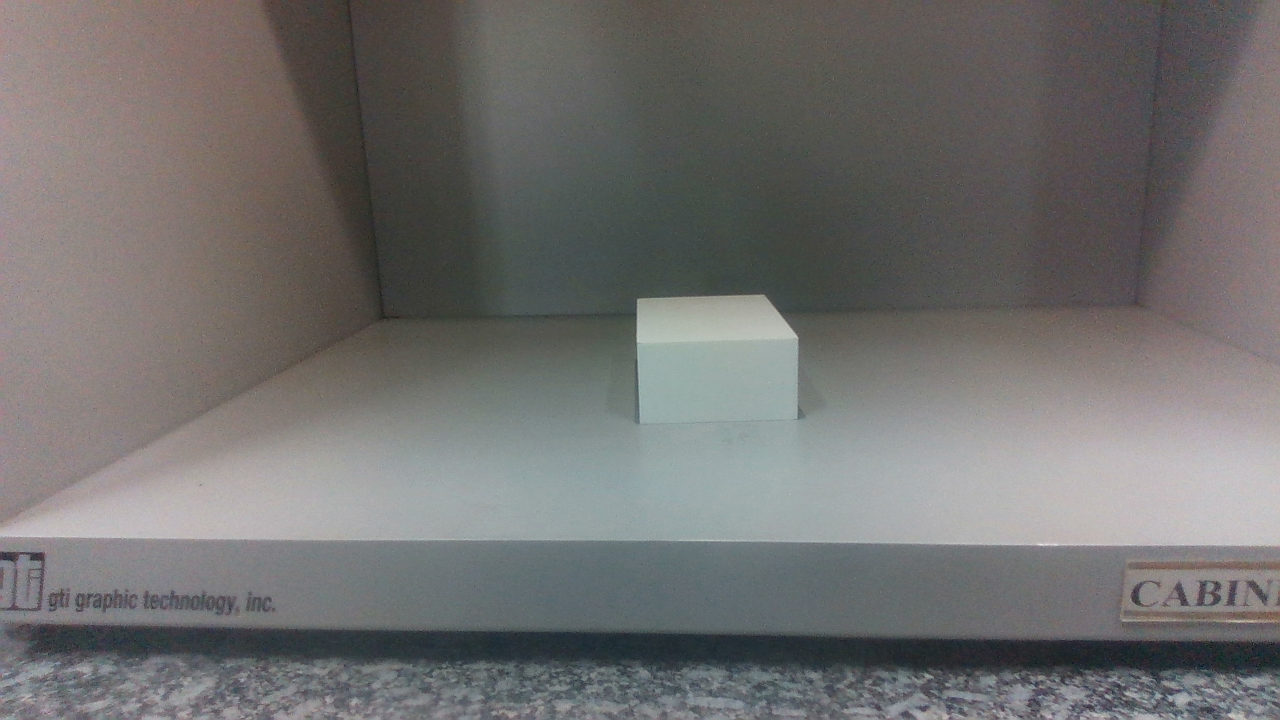Retangulo: (634, 294, 801, 425)
